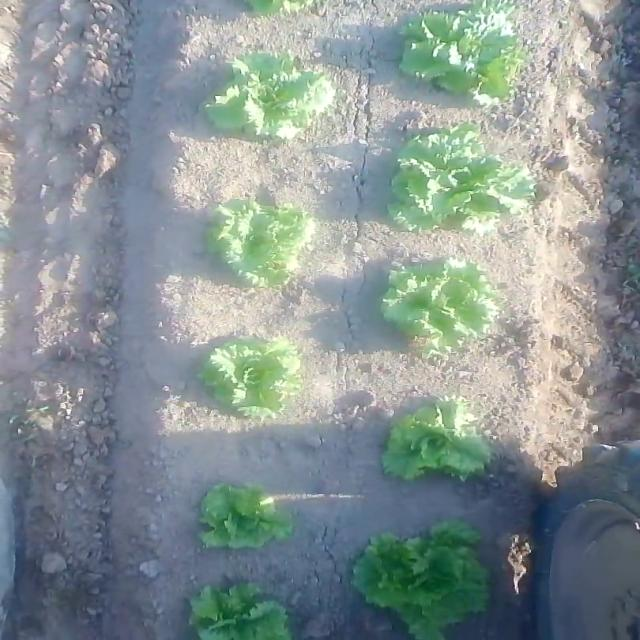Lettuce-Ready-to-Harvest: (339, 532, 477, 640), (204, 202, 335, 301), (394, 139, 515, 228), (197, 331, 296, 416)
